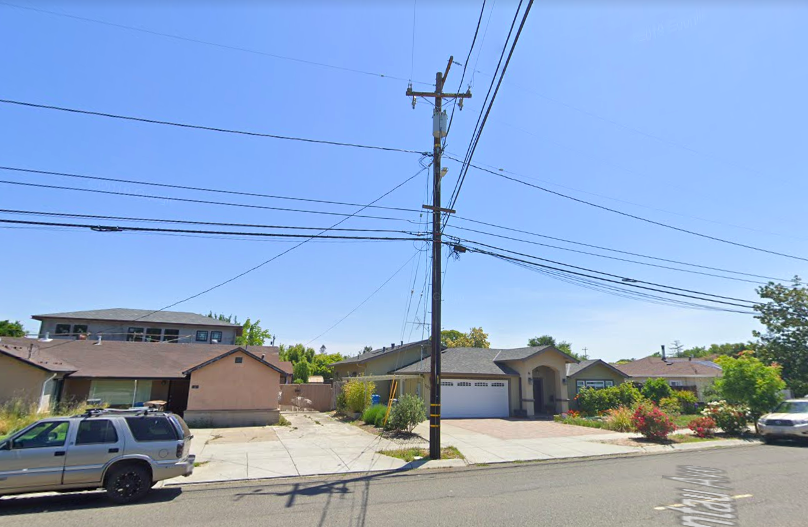utility_pole: (401, 51, 480, 178)
